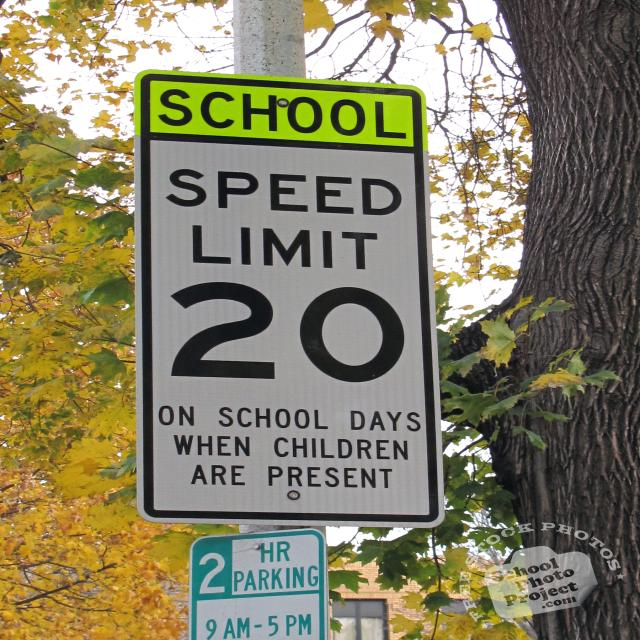speedLimit20: (142, 131, 446, 521)
